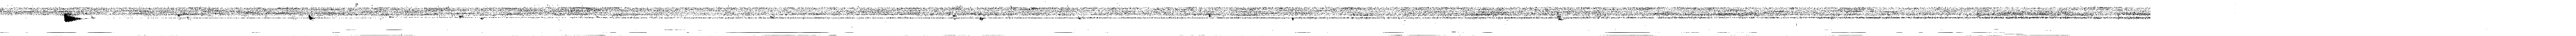meteor: (64, 13, 84, 23), (1557, 11, 1564, 20), (309, 15, 315, 20)
